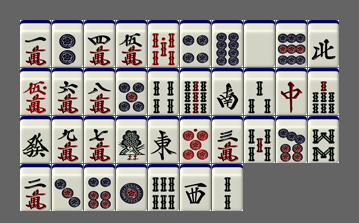0m: (20, 68, 51, 115)
0p: (180, 116, 211, 163)
0s: (148, 20, 179, 67)
1m: (20, 20, 51, 67)
1p: (116, 164, 147, 211)
1s: (116, 116, 147, 163)
1z: (148, 116, 179, 163)
2m: (20, 164, 51, 211)
2p: (52, 20, 83, 67)
2s: (212, 164, 243, 211)
2z: (212, 68, 243, 115)
3m: (212, 116, 243, 163)
3p: (52, 164, 83, 211)
3s: (244, 68, 275, 115)
3z: (180, 164, 211, 211)
4m: (84, 20, 115, 67)
4p: (180, 20, 211, 67)
4s: (148, 68, 179, 115)
4z: (308, 20, 339, 67)
5m: (116, 20, 147, 67)
5p: (116, 68, 147, 115)
5s: (244, 116, 275, 163)
5z: (244, 20, 275, 67)
6m: (52, 68, 83, 115)
6p: (84, 164, 115, 211)
6s: (148, 164, 179, 211)
6z: (20, 116, 51, 163)
7m: (84, 116, 115, 163)
7p: (276, 116, 307, 163)
7s: (308, 68, 339, 115)
7z: (276, 68, 307, 115)
8m: (84, 68, 115, 115)
8p: (212, 20, 243, 67)
8s: (308, 116, 339, 163)
9m: (52, 116, 83, 163)
9p: (276, 20, 307, 67)
9s: (180, 68, 211, 115)
